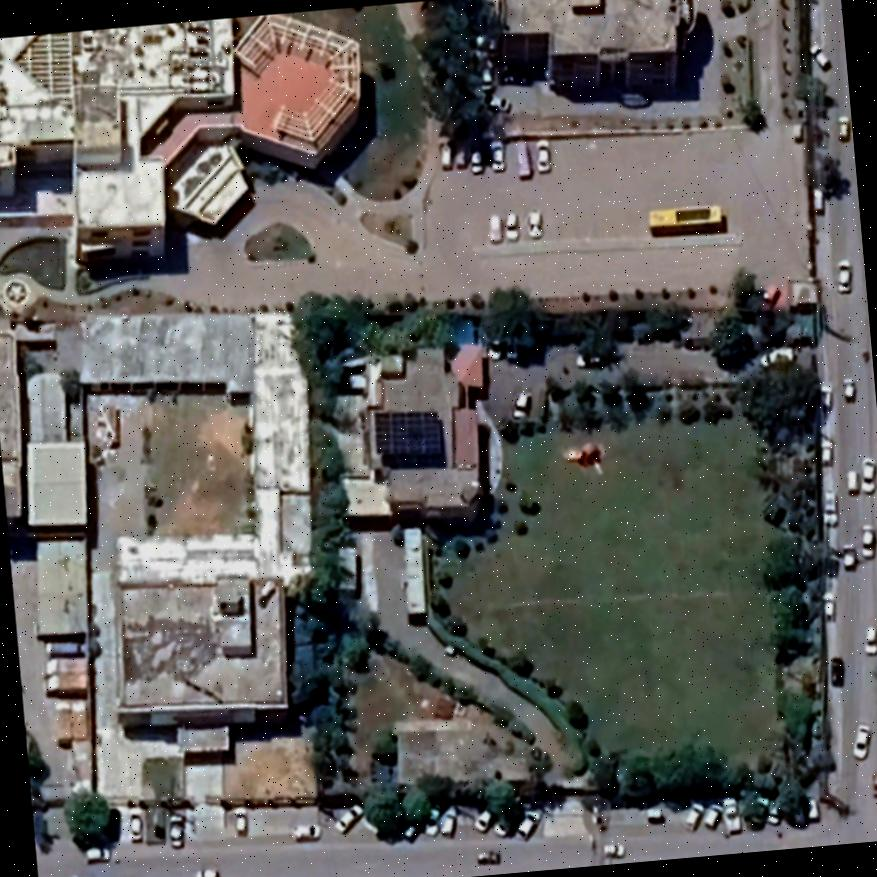Solarpanel: (368, 410, 445, 461)
